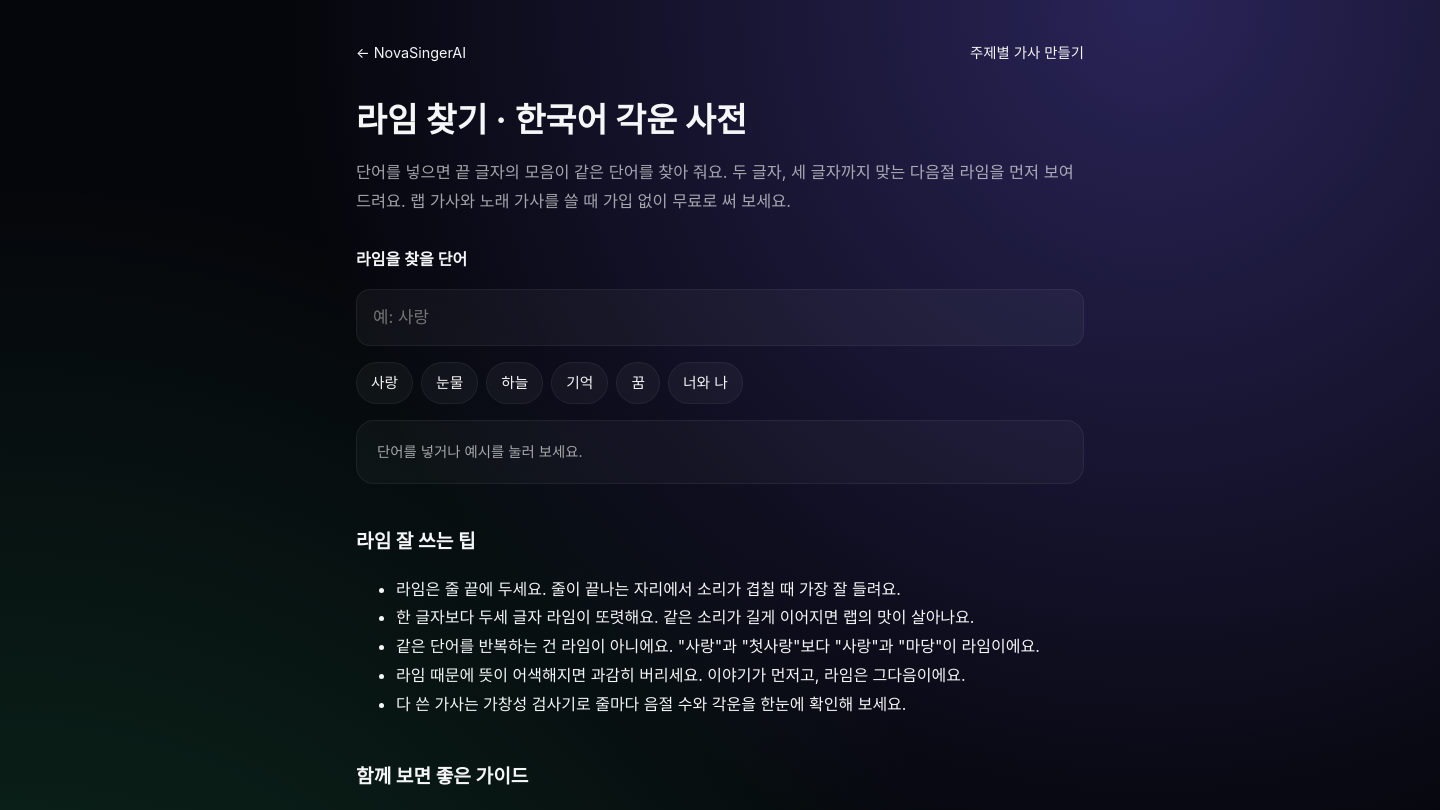
Scenario: rhyme finder page › asks for Hangul when the query has none
The width and height of the screenshot is (1440, 810).
In the field labelled "라임을 찾을 단어": (720, 318) [356,289,1084,346], type "love"
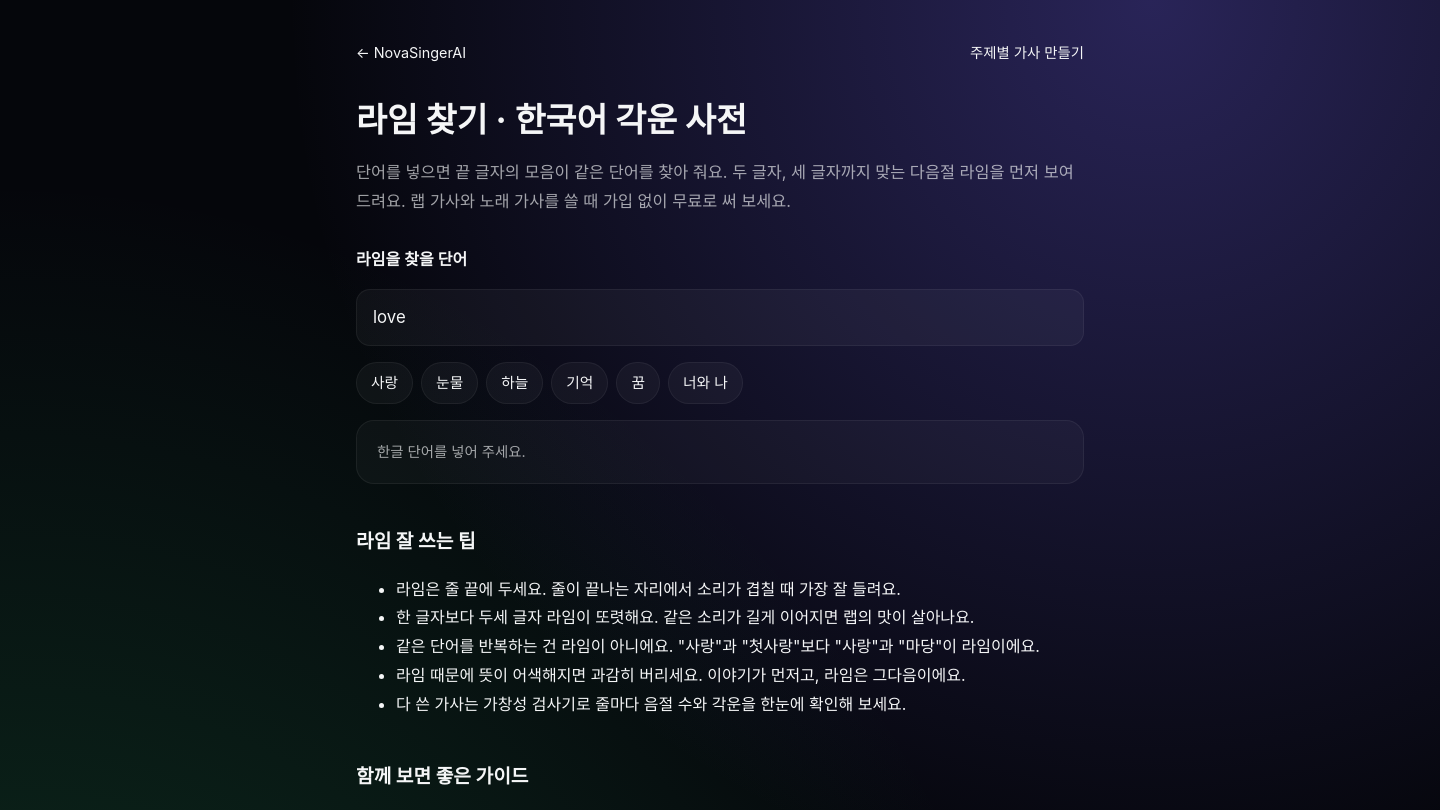
Expected: the text "한글 단어를 넣어 주세요." is shown, [377,443,526,460]
